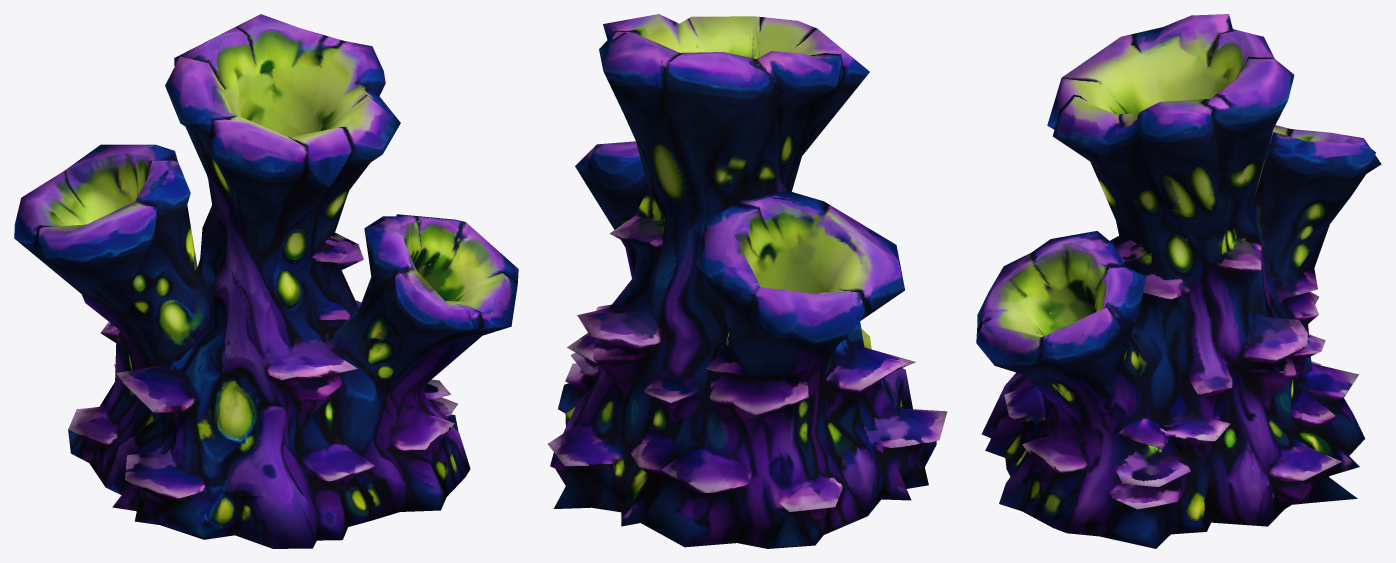
The model's file is fungal-spore-vent_LOD2.glb.
3 views of the same model, side by side, from view 1: azimuth 30°, elevation 25°; view 2: azimuth 150°, elevation 25°; view 3: azimuth 270°, elevation 25° (orthographic). The views are drawn at different scales.
Visible parts, largest first — view 1: fungal-spore-vent_LOD2; view 2: fungal-spore-vent_LOD2; view 3: fungal-spore-vent_LOD2.
Boxes of the visible parts, x1,y1,x2,y2 form: fungal-spore-vent_LOD2: (14,14,518,548); fungal-spore-vent_LOD2: (548,14,947,548); fungal-spore-vent_LOD2: (976,14,1381,548).
Bounding box in the file's own units: 1.07 × 1.1 × 0.9585.
Materials: 1 (1 with a texture image).
